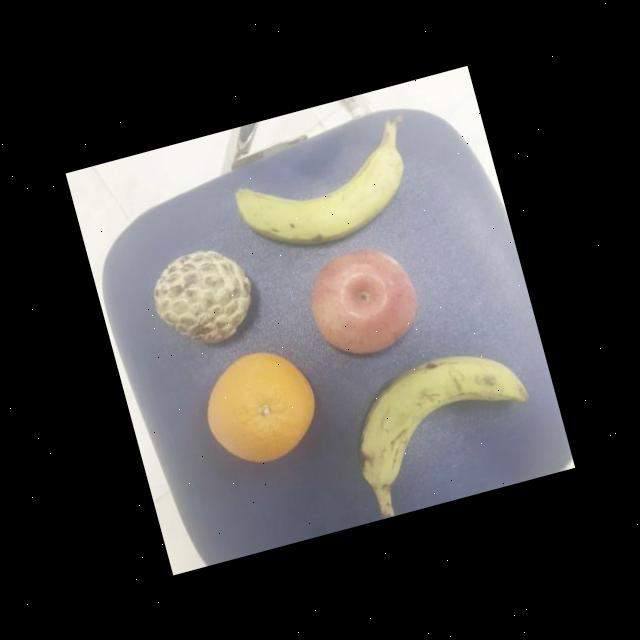Sakya fruit: (140, 235, 270, 358)
apple: (298, 236, 429, 366)
banana: (332, 334, 542, 496), (226, 134, 422, 266)
orange: (192, 337, 331, 476)
